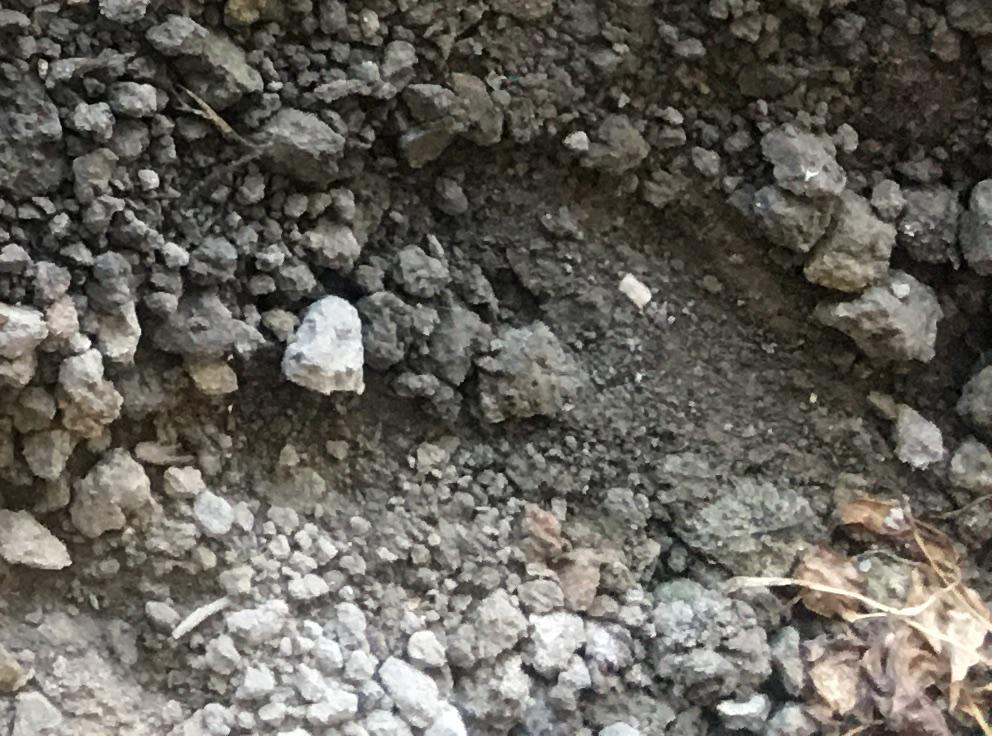block: (652, 572, 775, 704), (818, 270, 943, 376), (275, 294, 369, 399), (800, 193, 895, 290), (479, 324, 573, 416)
